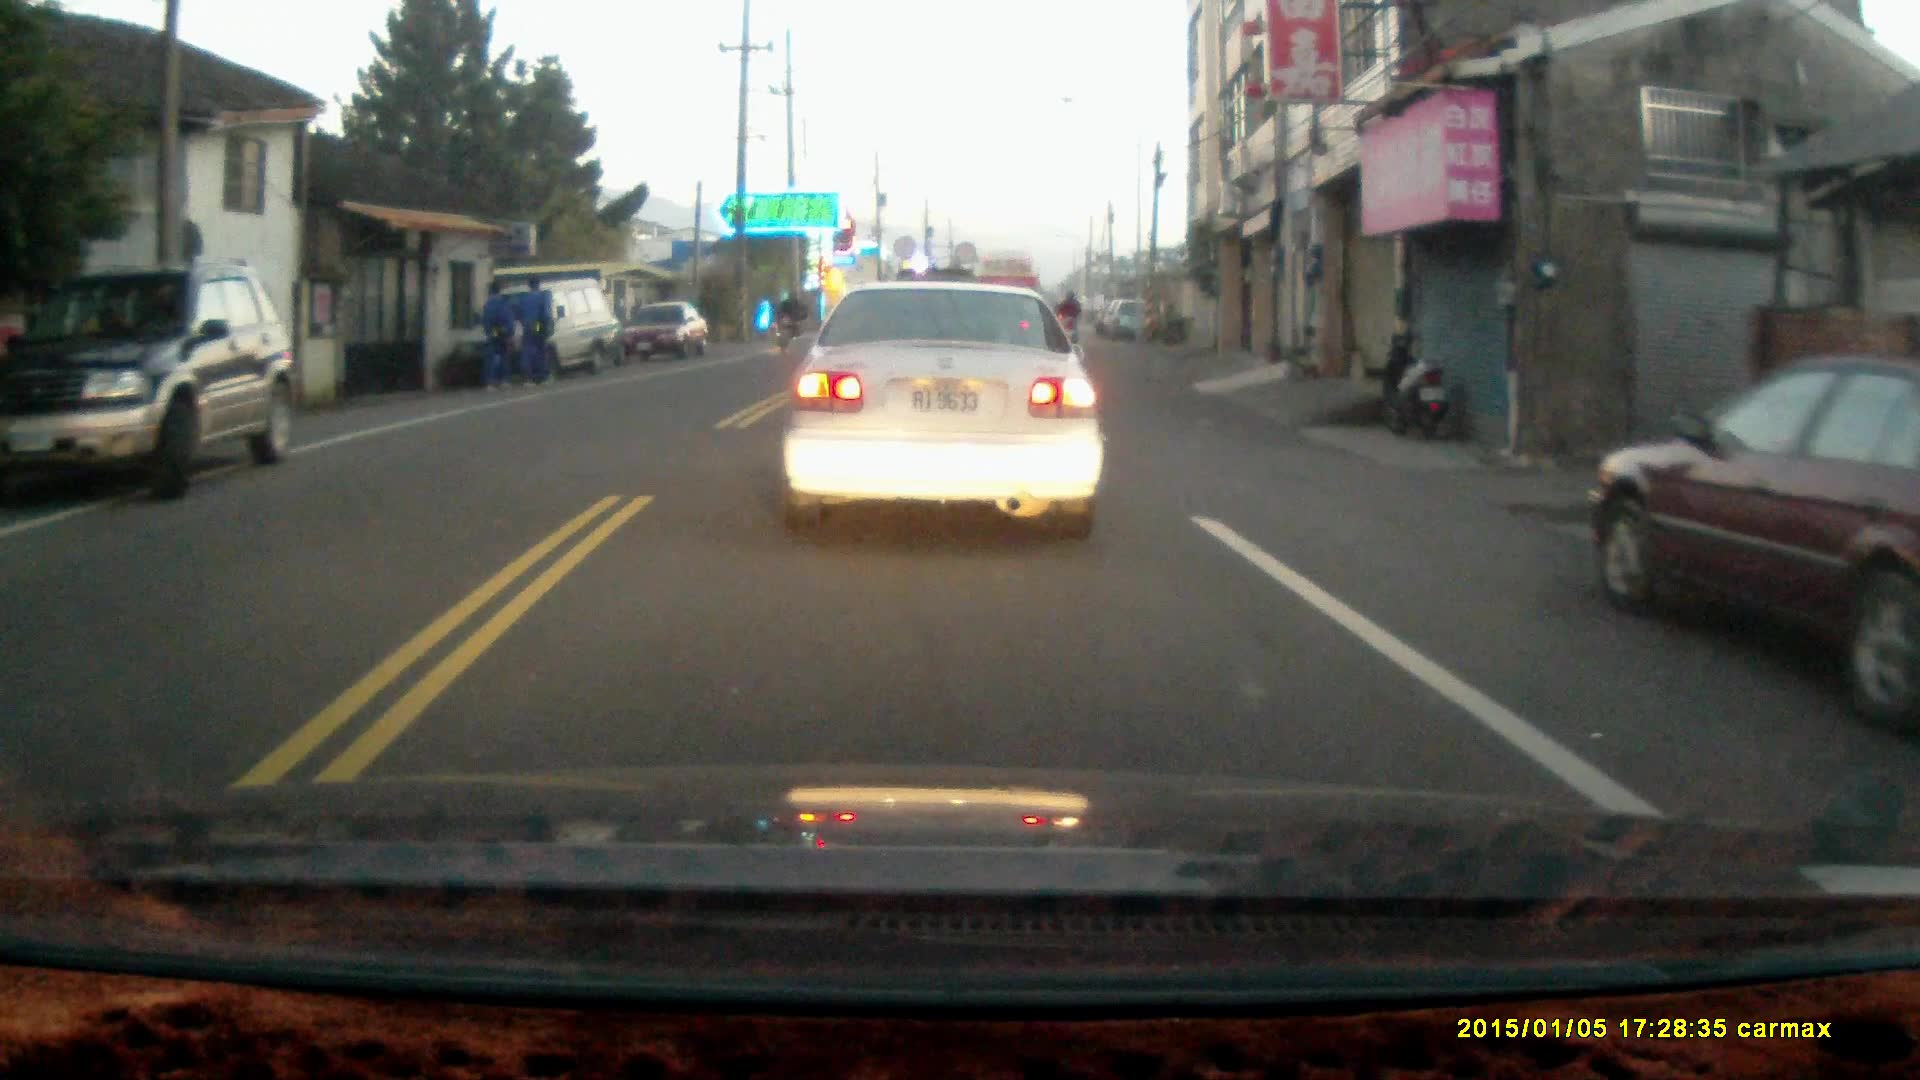pedestrian: (478, 277, 517, 396), (517, 272, 553, 390)
rider: (772, 287, 807, 348)
vehicle: (1599, 354, 1920, 741), (781, 275, 1109, 538), (7, 264, 301, 500), (487, 276, 627, 374), (614, 302, 712, 363)
